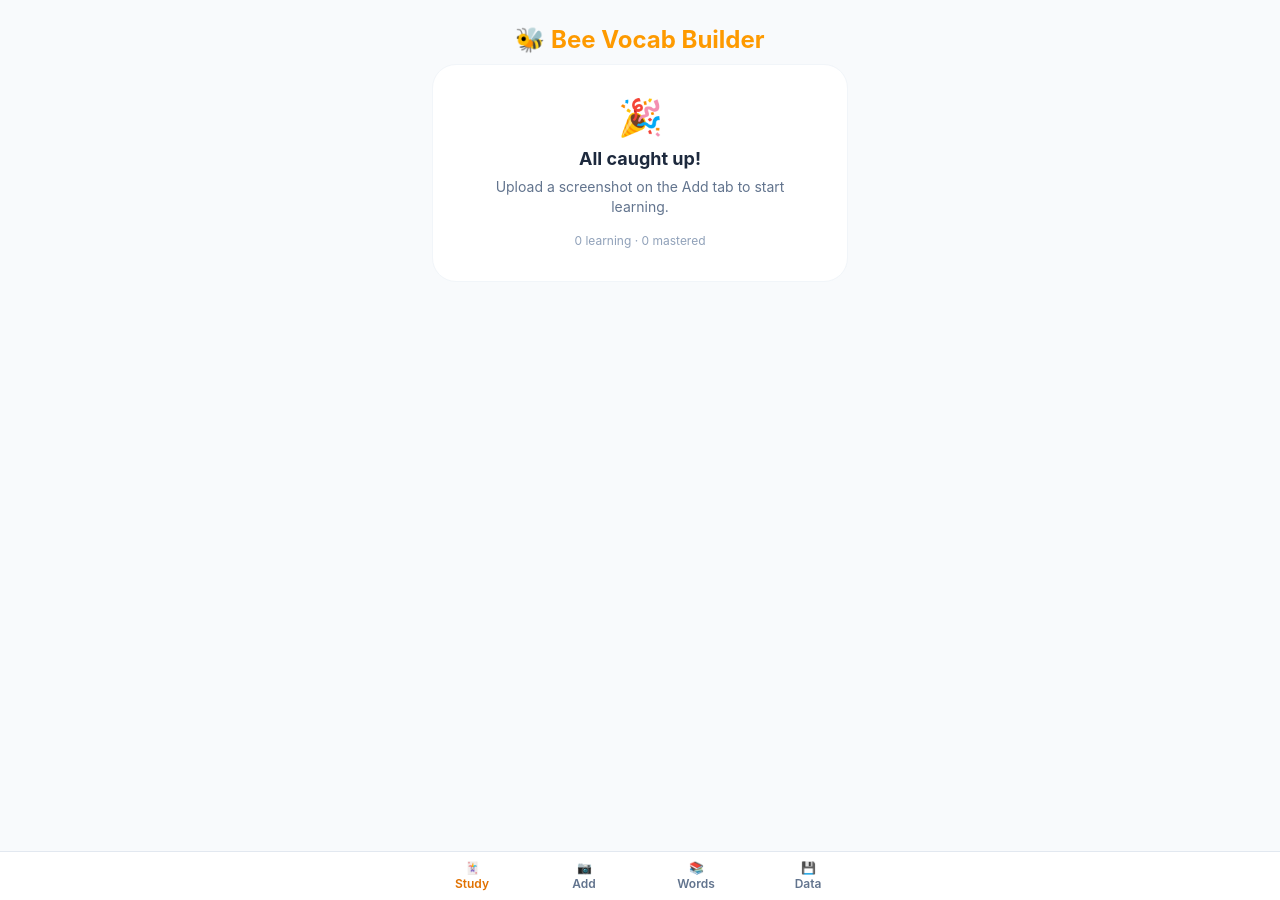
Test: shows the Study tab by default and switches tabs
Expected: the heading "🐝 Bee Vocab Builder" is shown, x1=515 y1=25 x2=764 y2=54
Expected: the heading "All caught up!" is shown, x1=579 y1=148 x2=701 y2=169
Step 1. Click the button "📚 Words" → (696, 876), box x1=640 y1=852 x2=752 y2=899
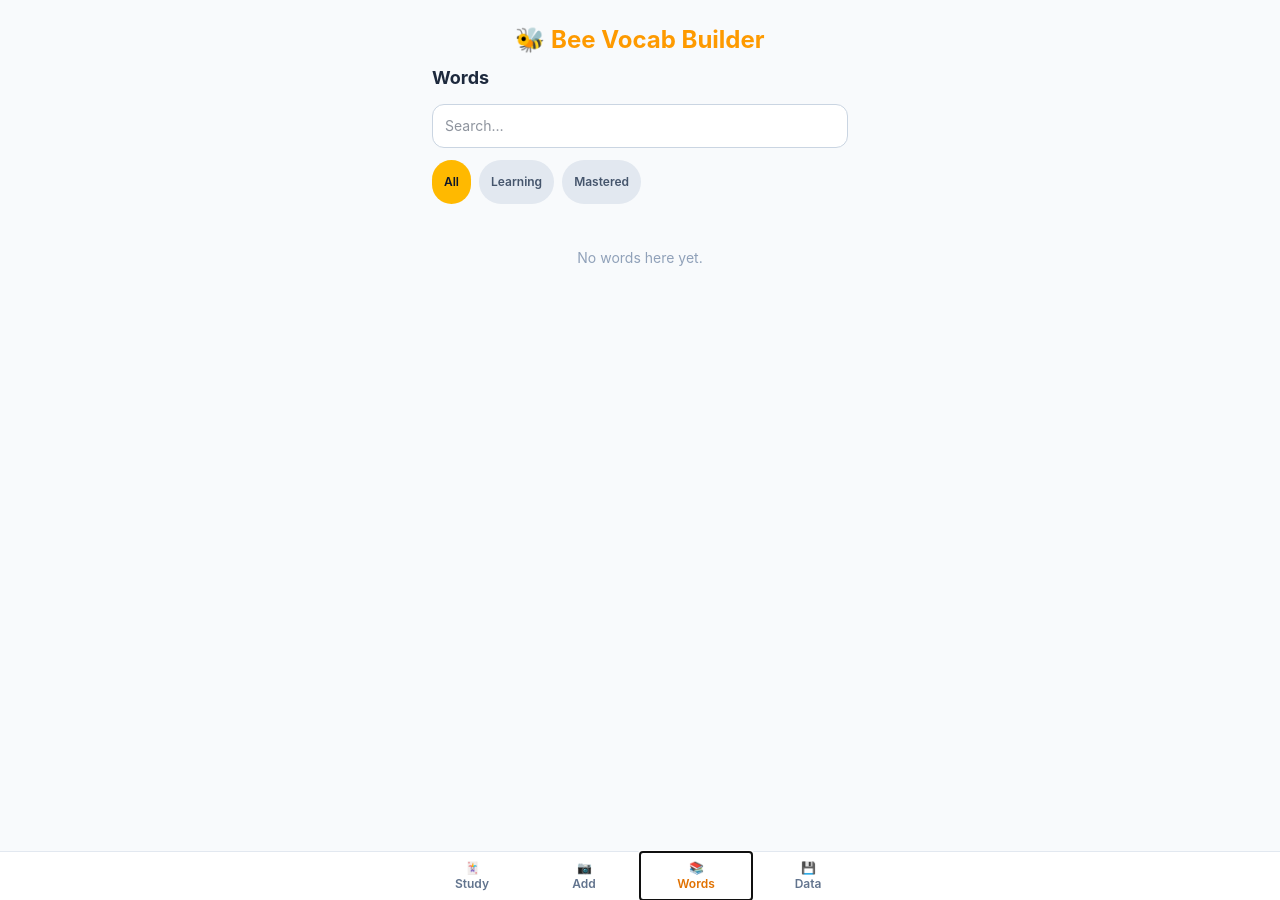
Result: the heading "Words" is shown at x1=432 y1=67 x2=489 y2=88
